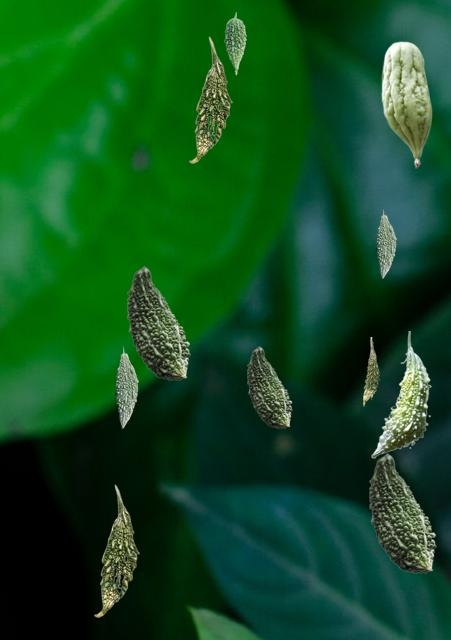ampalaya: (369, 453, 435, 572), (371, 331, 430, 457), (127, 266, 189, 379), (381, 41, 431, 167), (94, 484, 138, 616), (189, 36, 231, 162), (247, 346, 291, 427), (115, 346, 137, 427), (224, 12, 245, 74), (376, 209, 395, 277), (363, 337, 378, 405)
